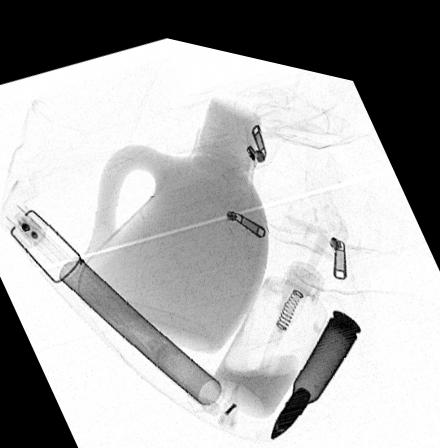Bullet: (269, 293, 362, 428)
